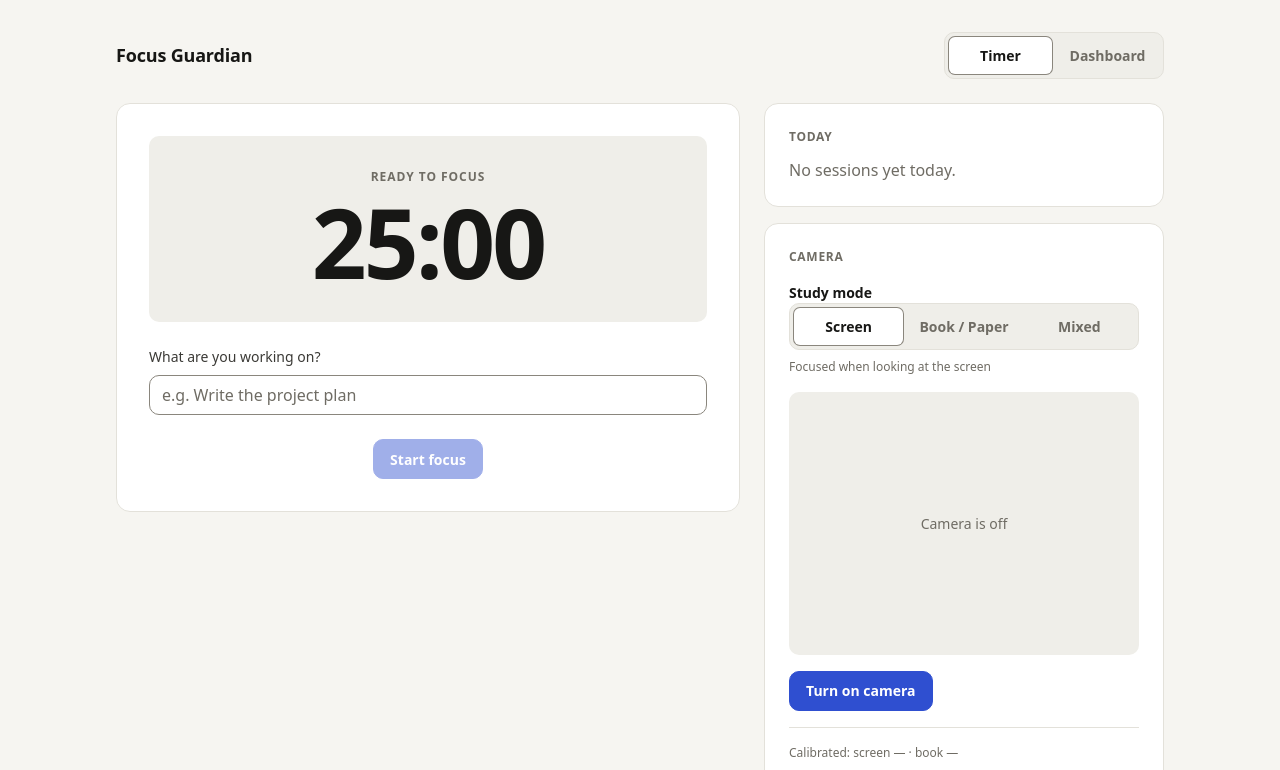
Scenario: App › logs a distraction during a session and announces it
The width and height of the screenshot is (1280, 770).
Type "Write the essay" into the field labelled "What are you working on?" at (428, 395), box [149,375,707,415]
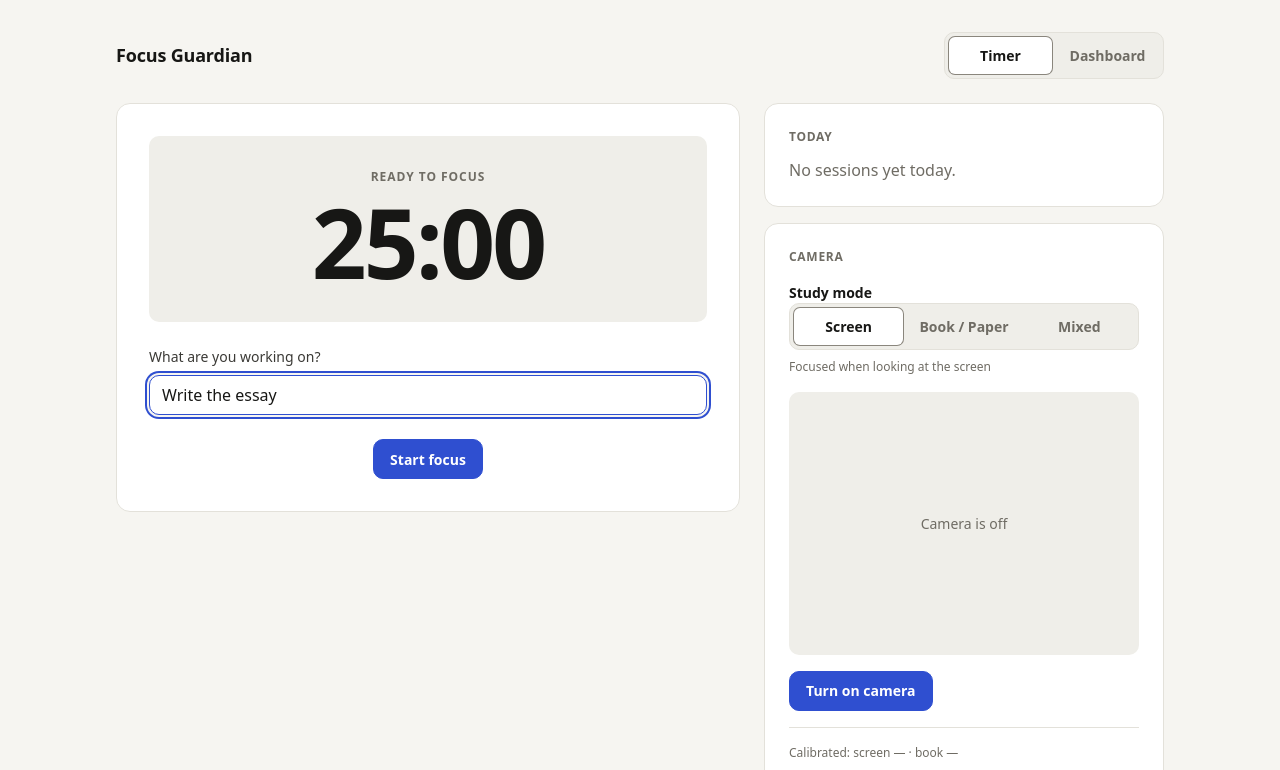
Press Enter in the field labelled "What are you working on?", box [149,375,707,415]
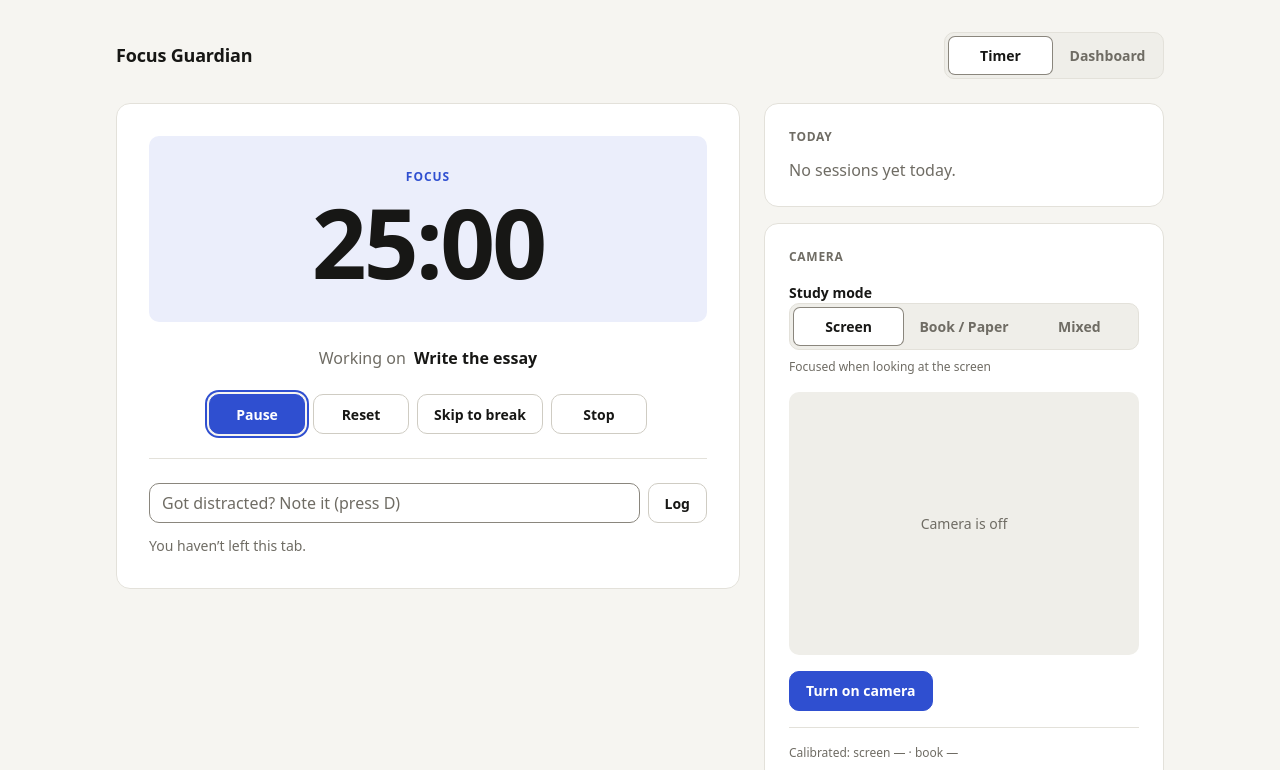
Type "phone" into the field named "Distraction note" at (394, 503), box [149,483,640,523]
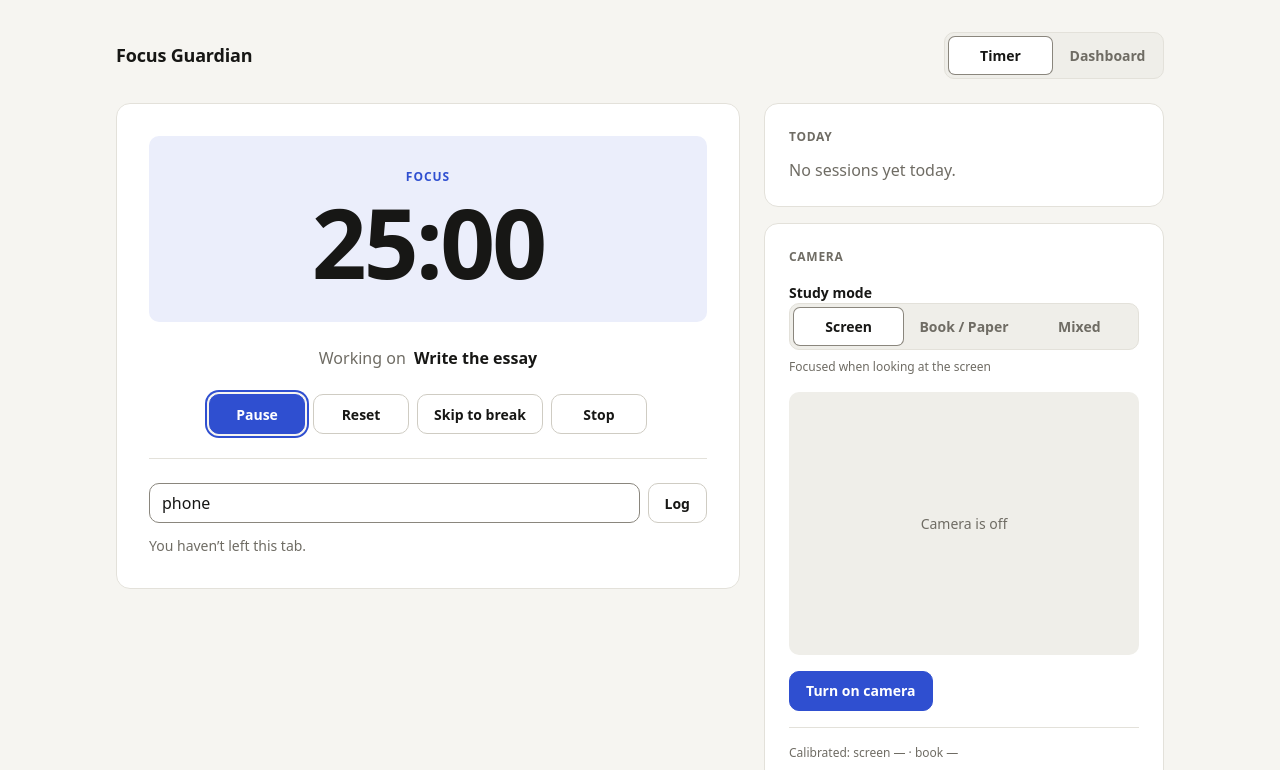
Click the button "Log" at (677, 503), box [648,483,707,523]
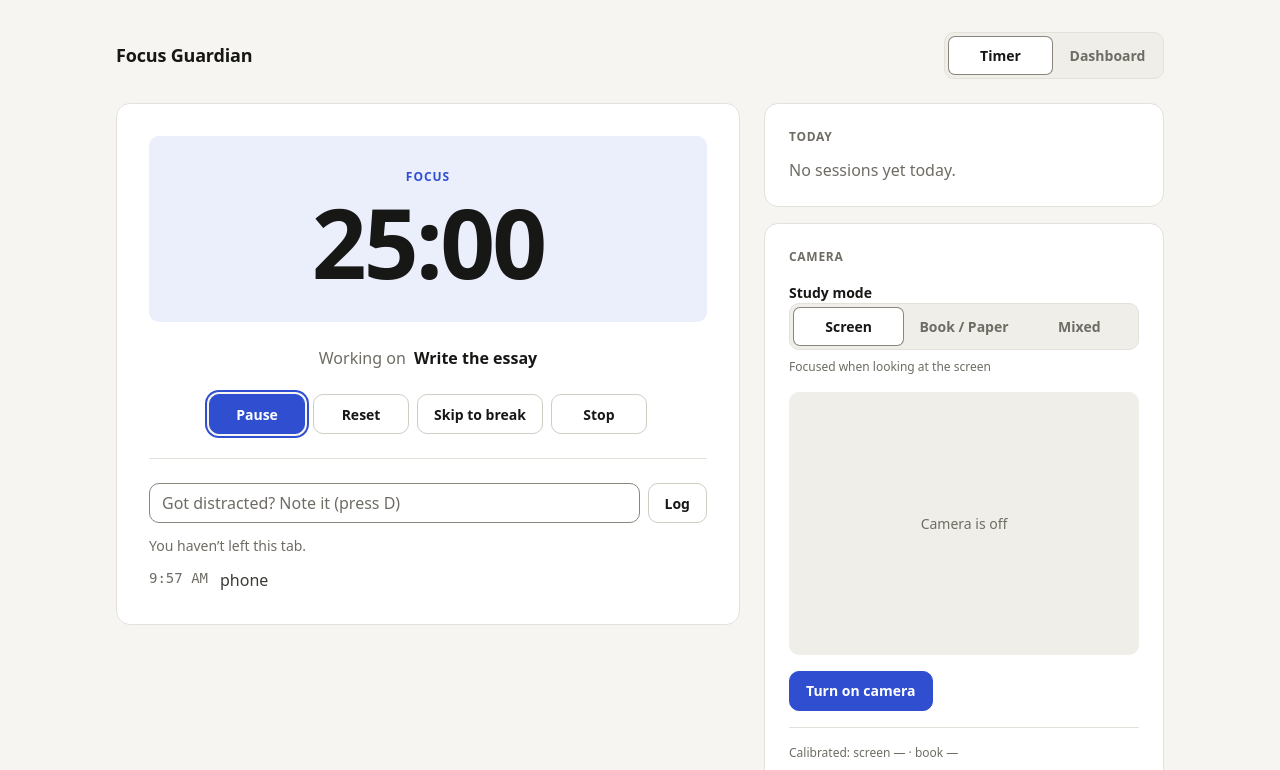
Check: the text "phone" is shown, box [220,568,268,592]
